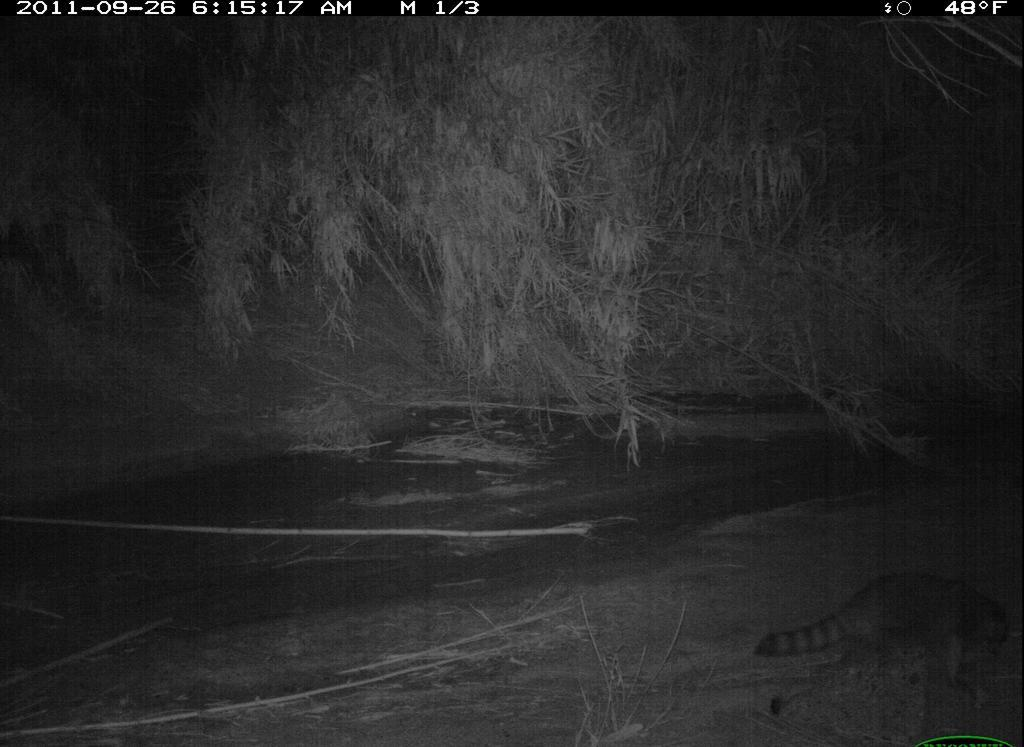raccoon: (747, 553, 1022, 703)
